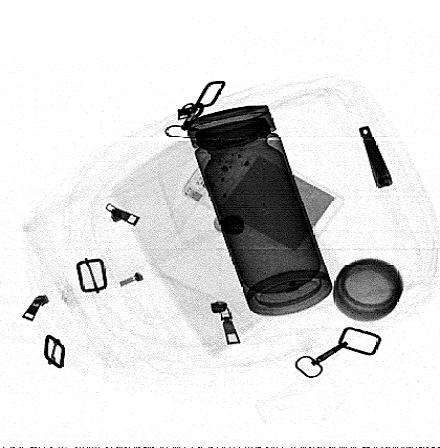Powerbank: (181, 129, 343, 260)
